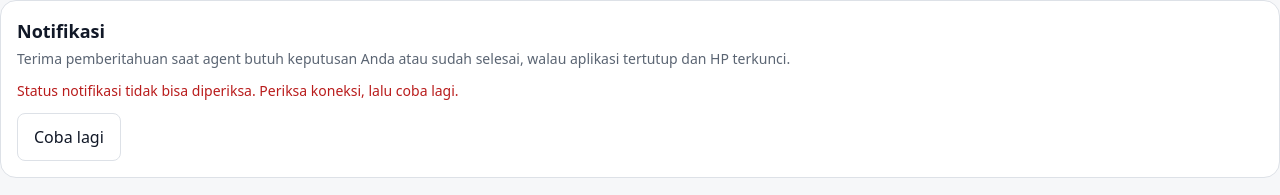
Scenario: NotificationsSection › relay tidak terjangkau: pesan galat dan Coba lagi yang memeriksa ulang
Expected: the text "Status notifikasi tidak bisa diperiksa" is shown, [17,81,459,100]
Click the button "Coba lagi". click: (69, 137)
box: [17,113,121,161]
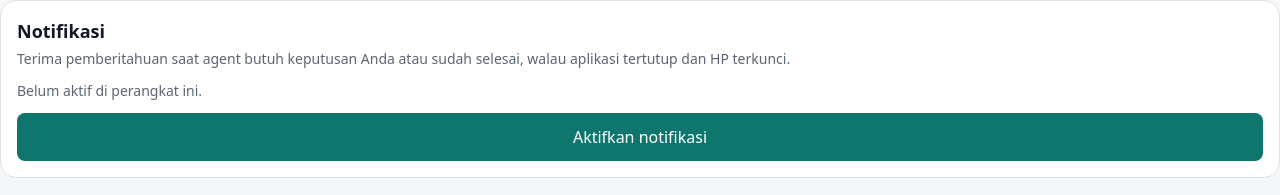
Now the button "Aktifkan notifikasi" is shown, box [17,113,1263,161]
